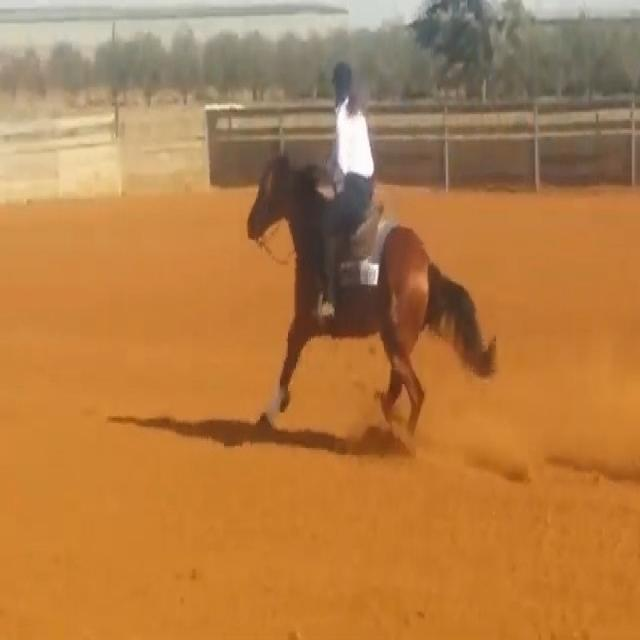horse: (243, 149, 498, 450)
